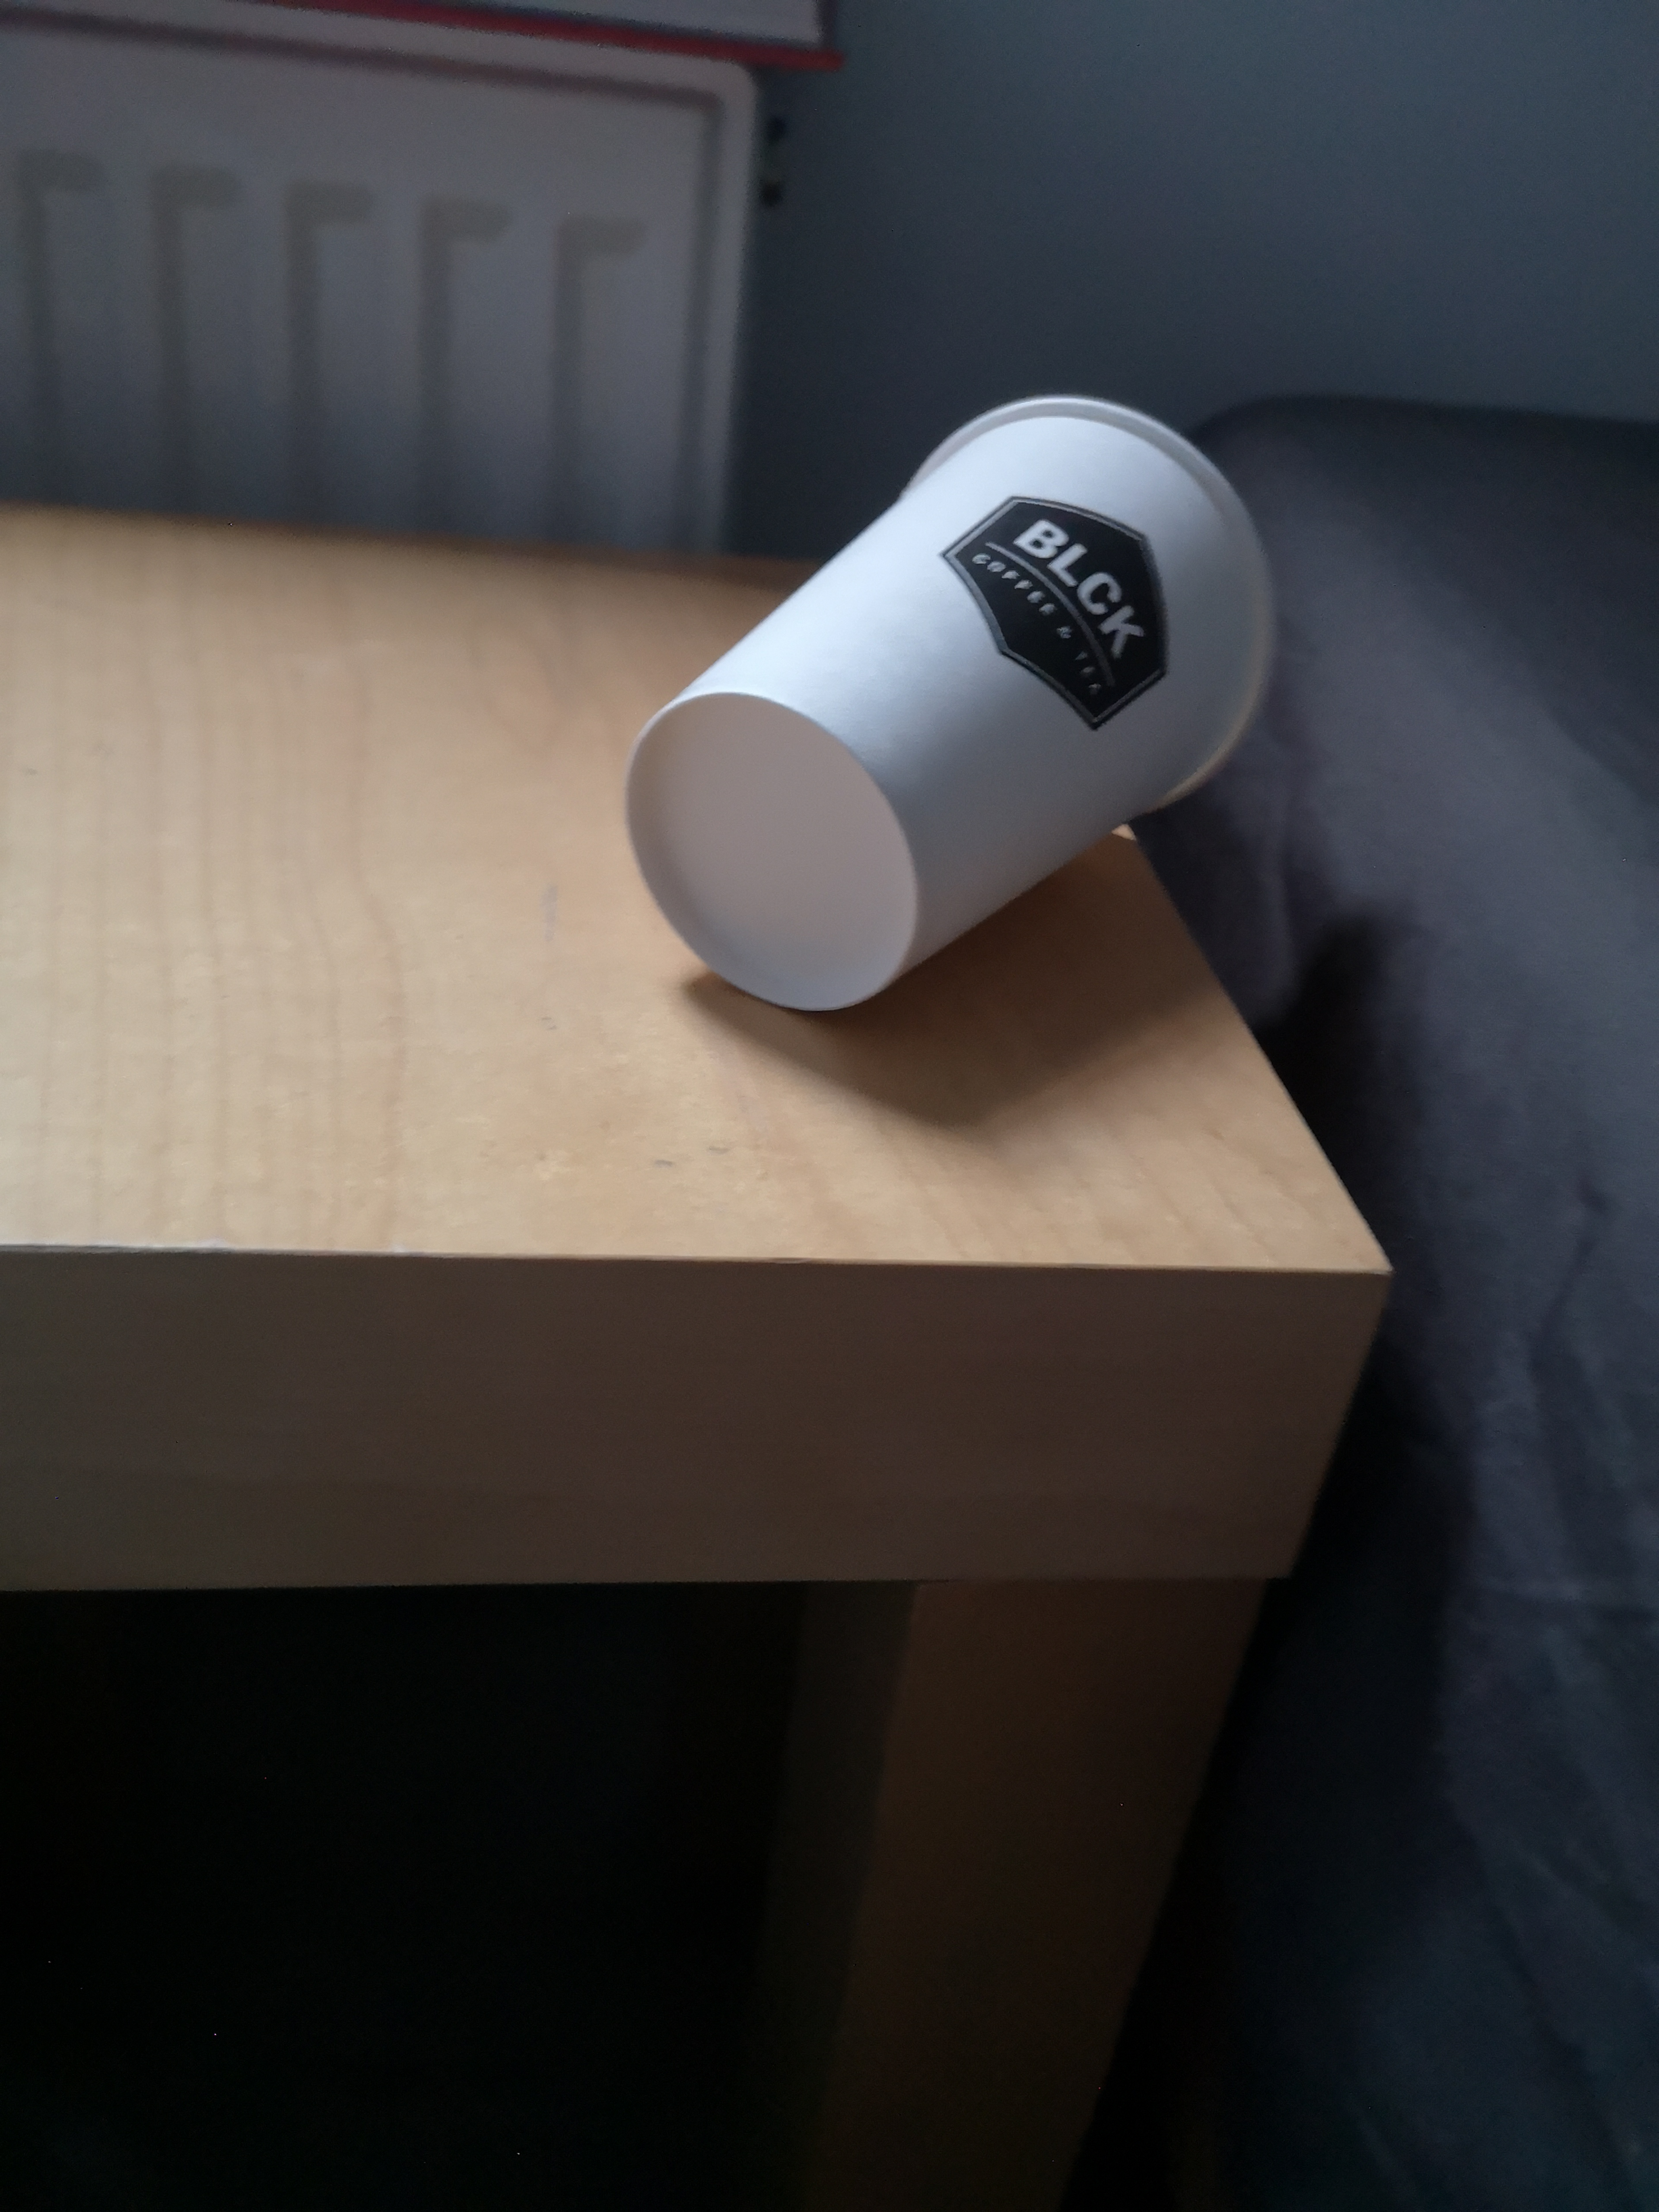cup: (606, 369, 1312, 1052)
